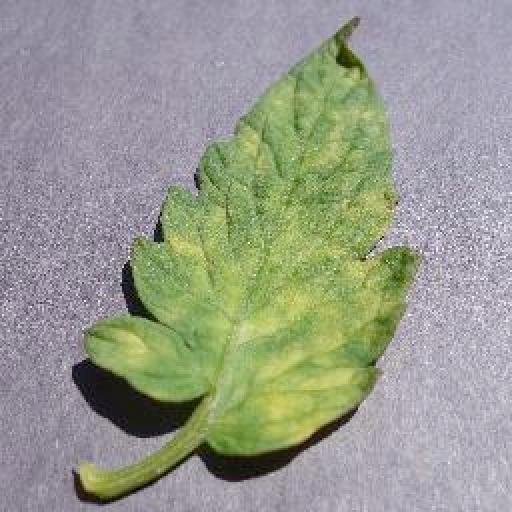disease_tomato: (80, 12, 422, 458)
